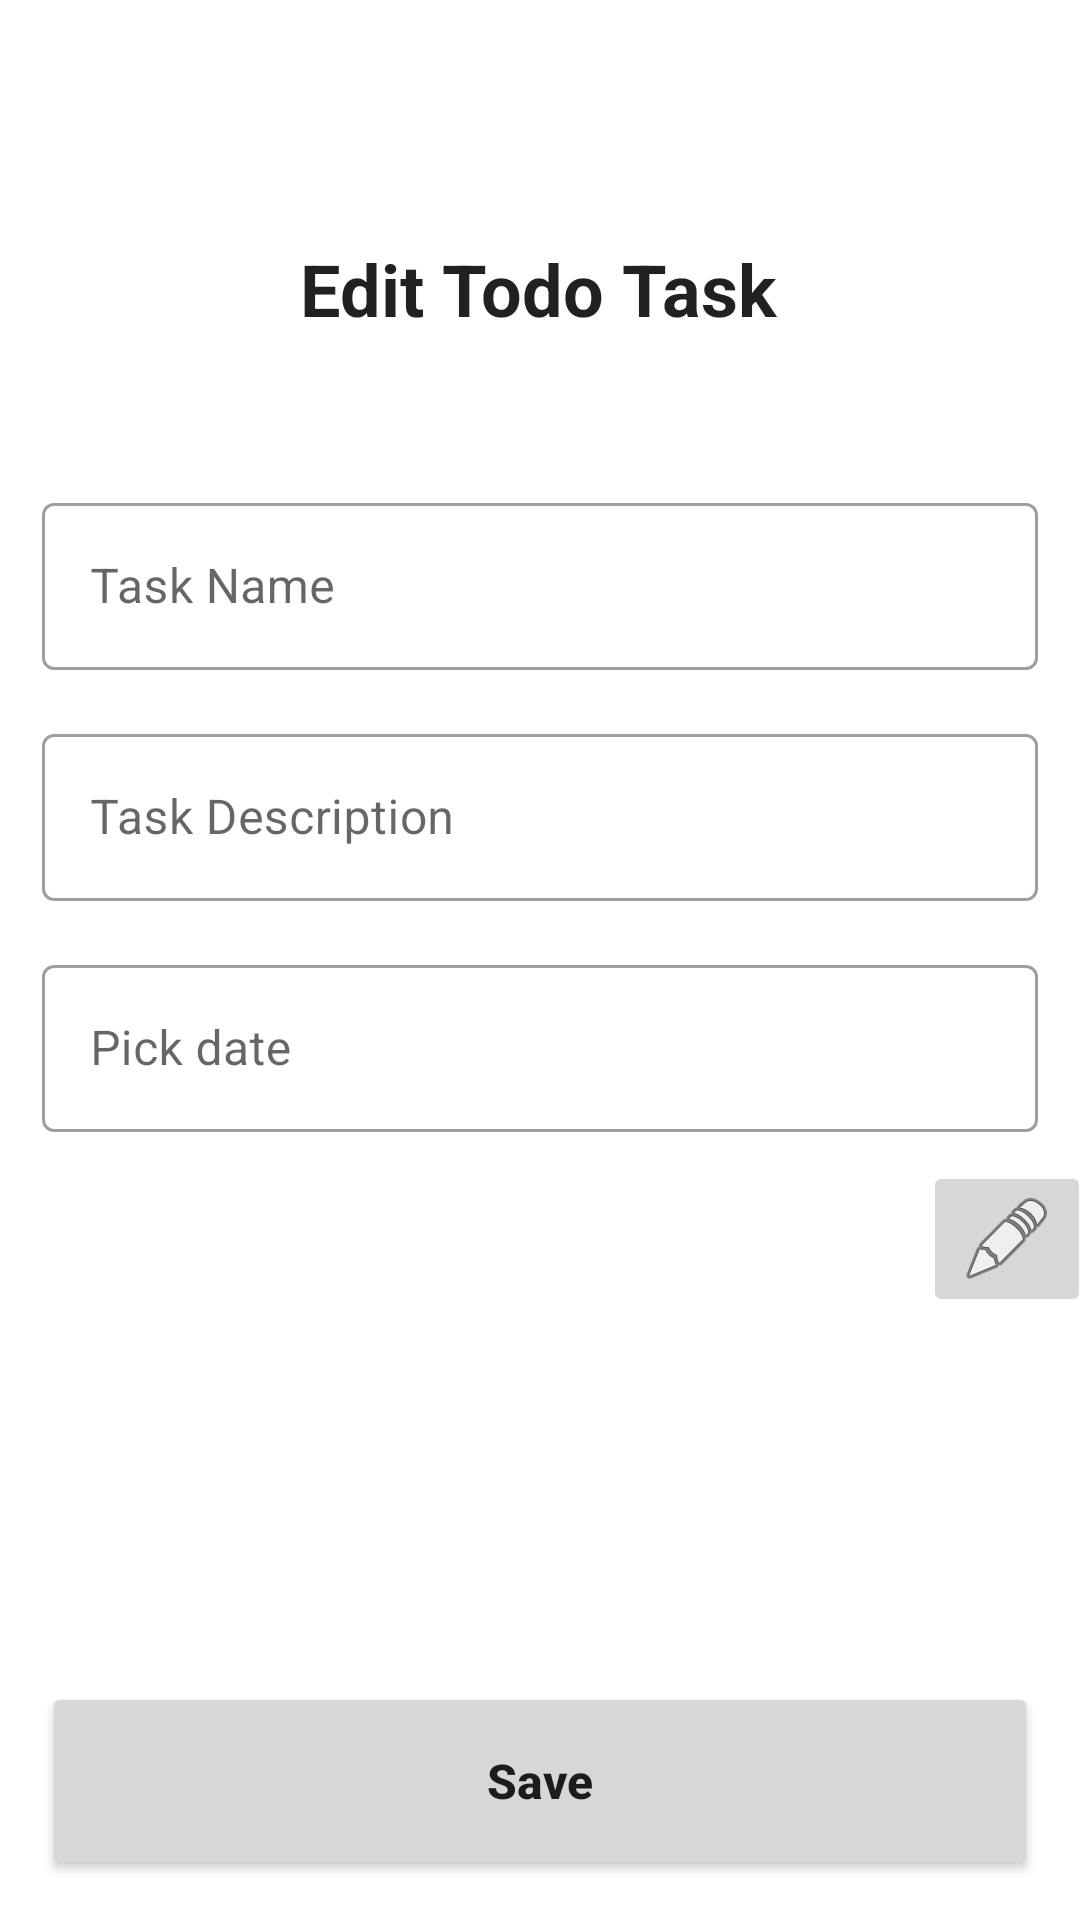

Named icons in this screenshot (1080×1920) and their centers, (x,y):
edit: (1007,1239)
